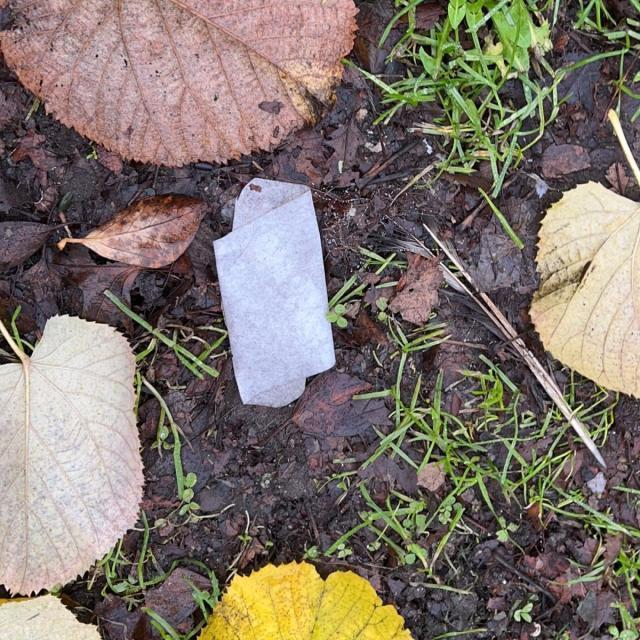Paper: (209, 173, 342, 413)
